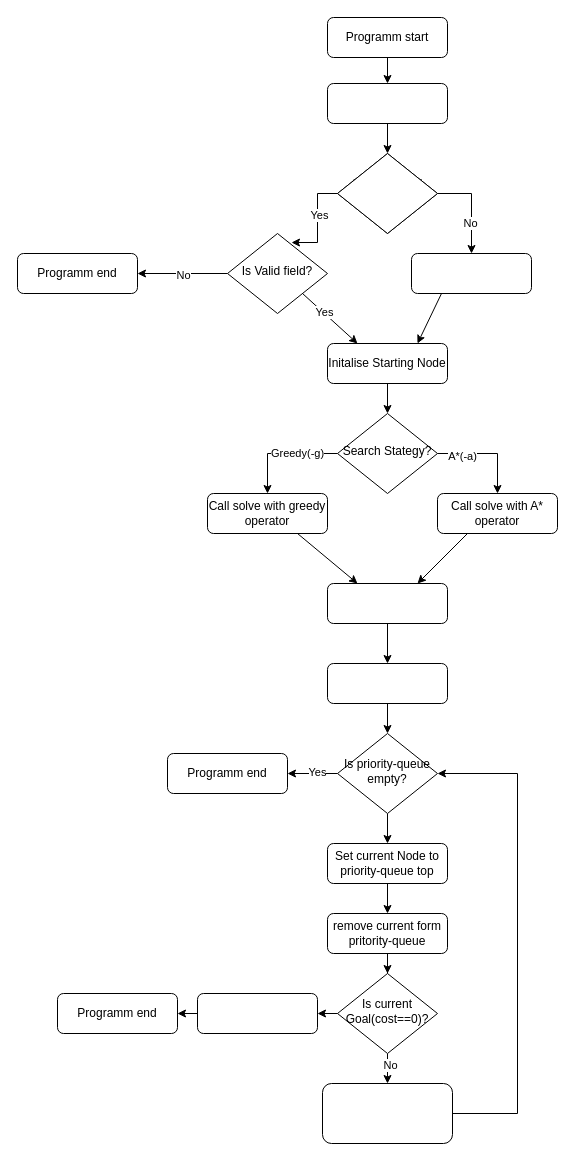
Some shapes in this 575 by 1169 pixel diagram are drawn without their labels. The centre of each missing label's shape, as x and y in pixels:
Calculate cost for start node and add it to priority-queue: the point at 387,683
Choose calc_cost function: the point at 387,603
Create and add all possible child Nodes from current to priority-queue: the point at 387,1113
Generate random starting field: the point at 471,273
Parse Command-Line Arguments: the point at 387,103
Print path to current: the point at 257,1013
Starting f ield porvided?: the point at 387,193
